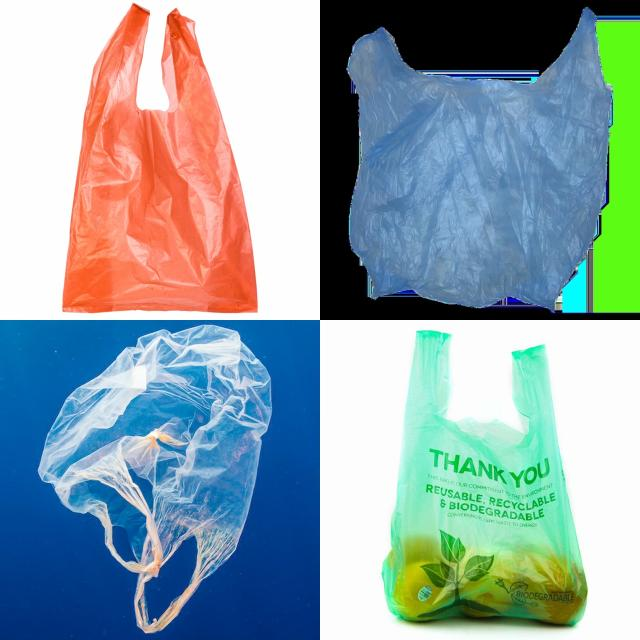Single-layer Plastic: (348, 9, 612, 309), (39, 325, 271, 632), (62, 4, 258, 312), (382, 331, 588, 624)
